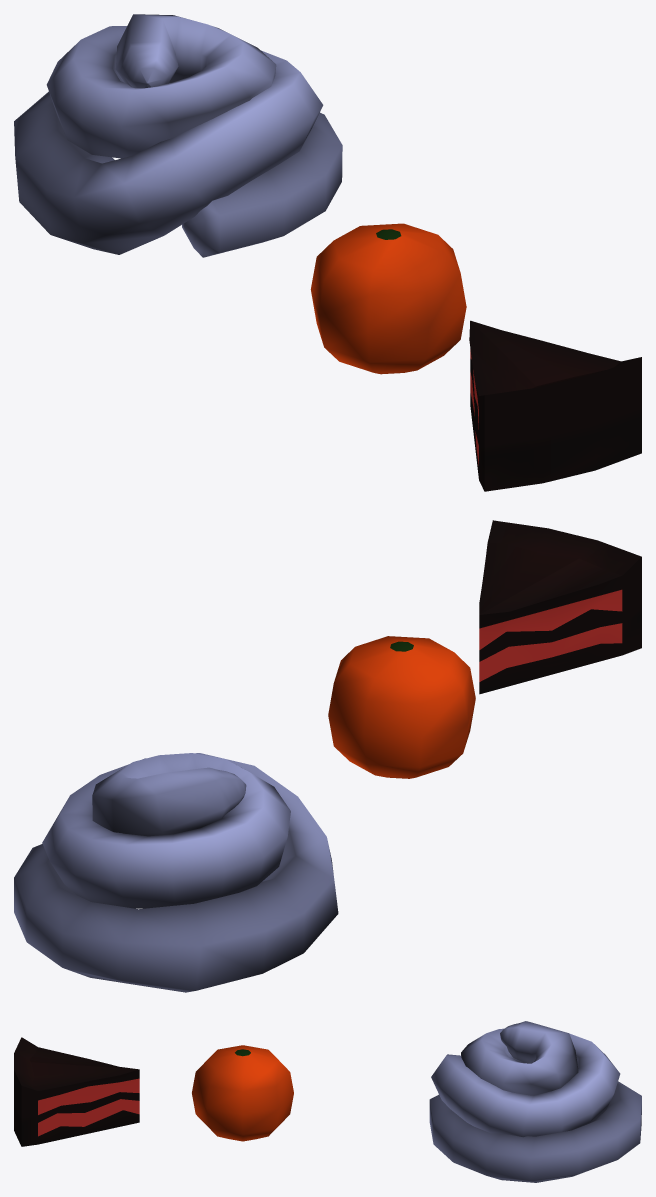
3 renders of one model, top to bottom at view 1: azimuth 30°, elevation 25°; view 2: azimuth 150°, elevation 25°; view 3: azimuth 270°, elevation 25°, orthographic. The views are drawn at different scales.
Visible parts, largest first — view 1: Turd, Pie, Orange; view 2: Turd, Pie, Orange; view 3: Turd, Pie, Orange.
Boxes of the visible parts, x1,y1,x2,y2 form: Turd: (14, 14, 342, 257); Pie: (469, 320, 641, 491); Orange: (310, 223, 466, 374); Turd: (14, 753, 338, 992); Pie: (479, 520, 641, 694); Orange: (328, 636, 475, 778); Turd: (429, 1021, 641, 1182); Pie: (14, 1037, 139, 1146); Orange: (192, 1045, 293, 1141).
Size of the model in its own units: 4.07 by 2.61 by 12.27.
